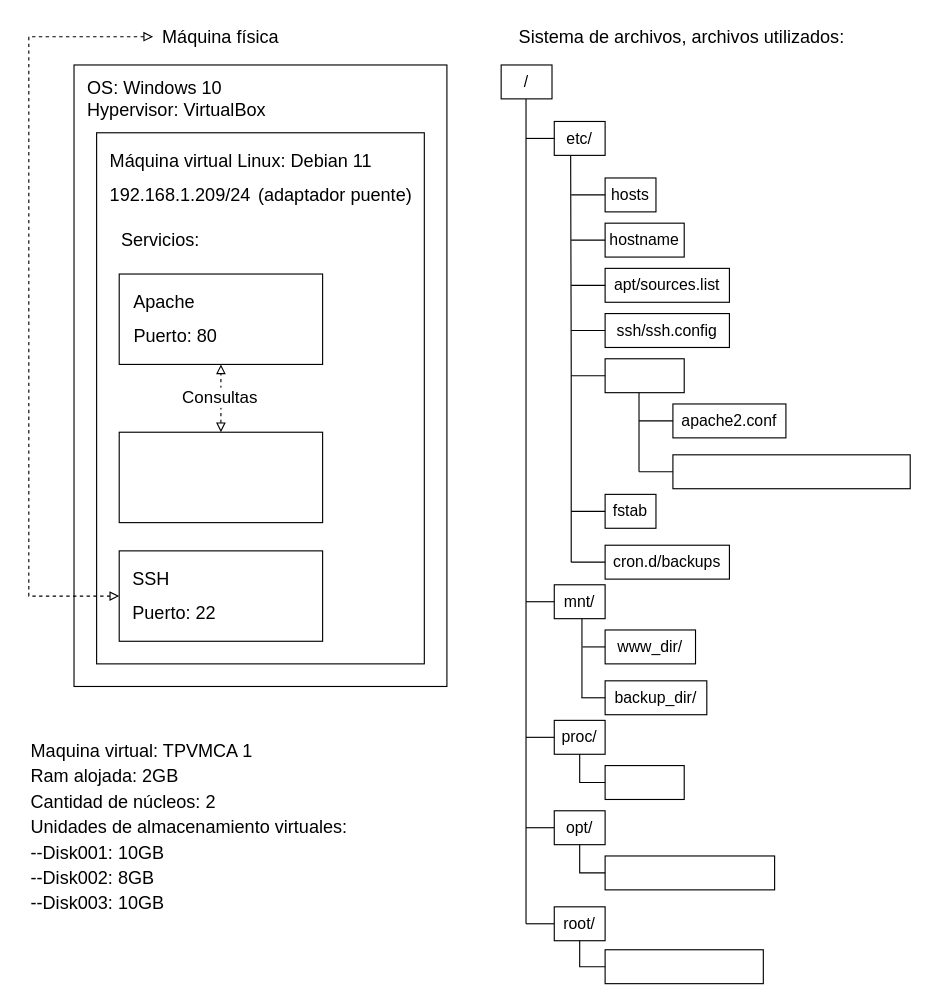
This 930x1003 diagram has some shape labels left out. Each missing label, with the box of its shape:
.ssh/authroized_keys: (604, 949, 763, 984)
apache2/: (604, 358, 684, 393)
MariaDB: (118, 431, 323, 523)
particion: (604, 764, 684, 799)
scripts/backup_full.sh: (604, 855, 775, 890)
sites-available/000-default.conf: (672, 454, 910, 489)
